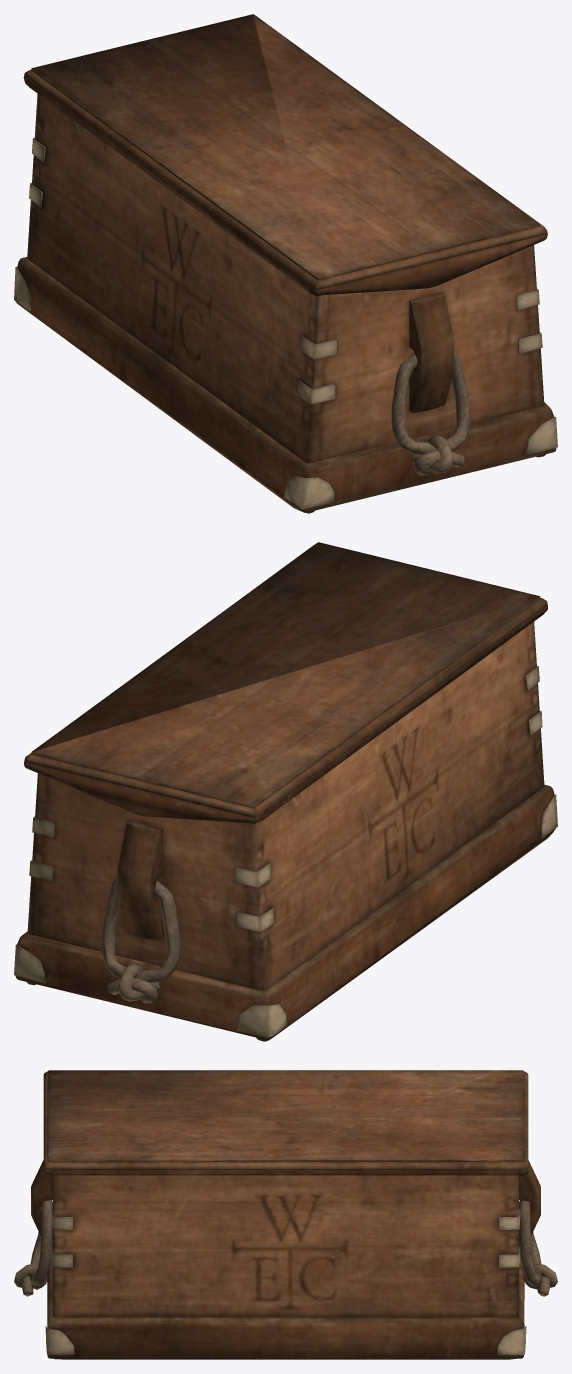
File: wooden_crate_02.glb
3 views of the same model, one above another, from view 1: azimuth 30°, elevation 25°; view 2: azimuth 150°, elevation 25°; view 3: azimuth 270°, elevation 25° (orthographic). The views are drawn at different scales.
Parts seen in each view (by area): view 1: wooden_crate_02_crate, wooden_crate_02_lid; view 2: wooden_crate_02_crate, wooden_crate_02_lid; view 3: wooden_crate_02_crate, wooden_crate_02_lid.
Part boxes in pixels (x1,y1,x2,y2): wooden_crate_02_crate: (14, 94, 557, 513); wooden_crate_02_lid: (23, 14, 547, 296); wooden_crate_02_crate: (14, 621, 557, 1041); wooden_crate_02_lid: (24, 542, 547, 823); wooden_crate_02_crate: (14, 1160, 557, 1359); wooden_crate_02_lid: (43, 1070, 528, 1175).
Size of the model in its own units: 0.5291 by 0.4638 by 1.17.
2 materials, 2 textured.
